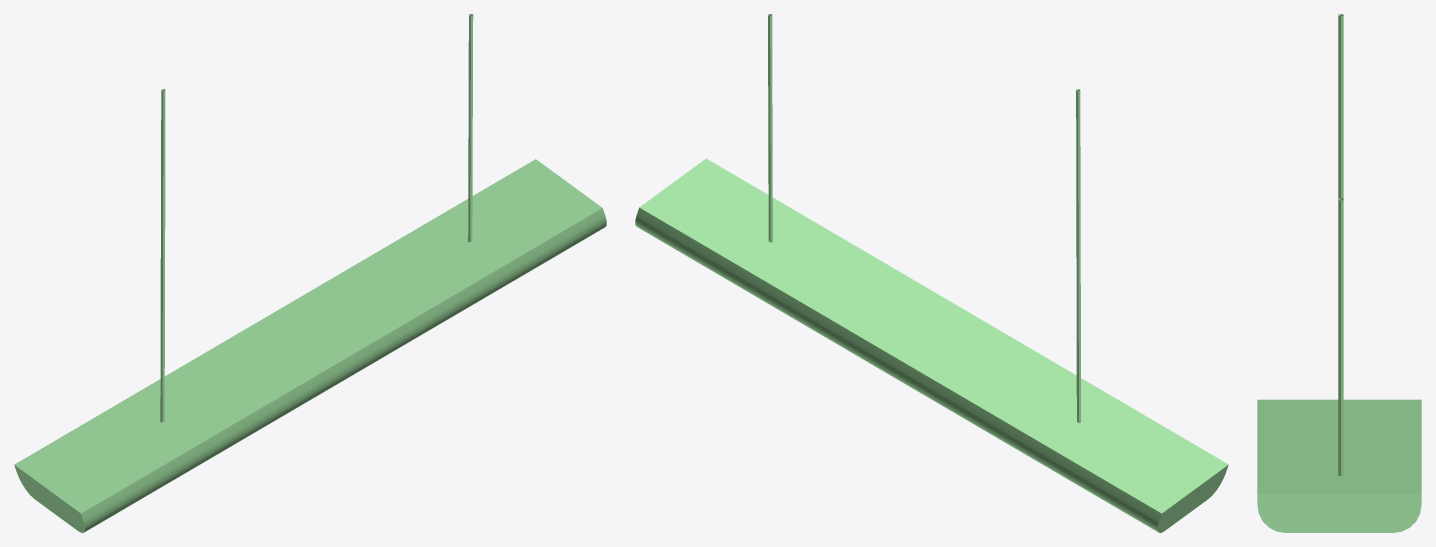
File: Luz 3.fbx
The picture shows the model from 3 angles, left to right: view 1: azimuth 30°, elevation 25°; view 2: azimuth 150°, elevation 25°; view 3: azimuth 270°, elevation 25°; orthographic projection. The views are drawn at different scales.
Visible parts, largest first — view 1: Luz_3; view 2: Luz_3; view 3: Luz_3.
Part boxes in pixels (bbox=[...]): Luz_3: bbox=[14, 14, 606, 532]; Luz_3: bbox=[635, 14, 1228, 532]; Luz_3: bbox=[1257, 14, 1421, 532].
Bounding box in the file's own units: 1.22 × 0.8741 × 0.266.
